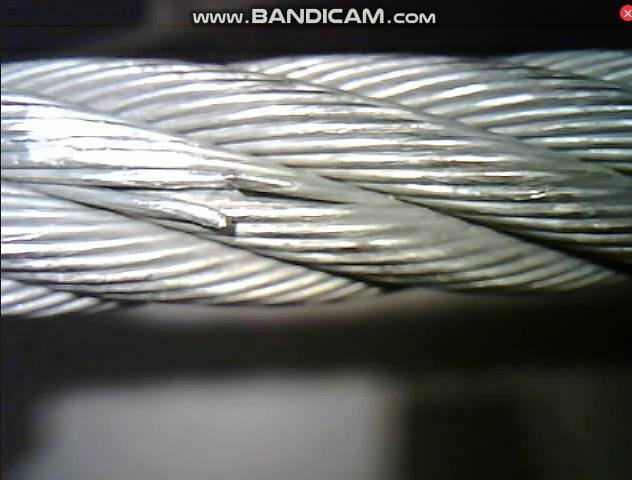break: (184, 158, 268, 257)
